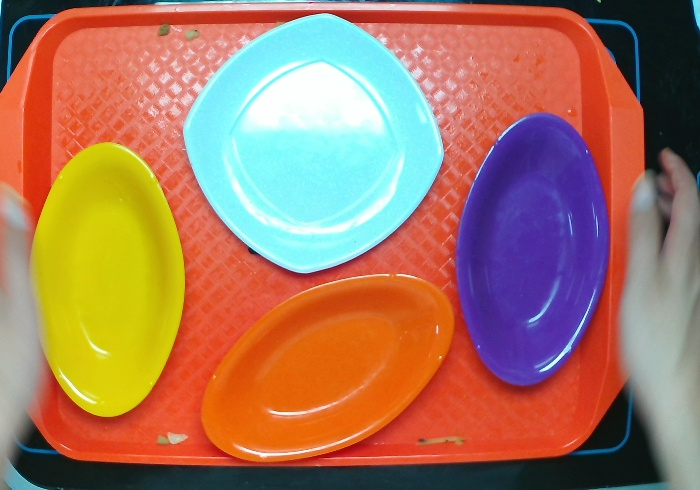RJxy-Fen_Hong_Tuo_Yuan: (454, 109, 610, 388)
RJxy-Huang_Se_Tuo_Yuan: (25, 139, 186, 418)
RJxy-Ju_Huang_Tuo_Yuan: (199, 271, 457, 463)
RJxy-Si_Fang_Die: (180, 9, 447, 275)
